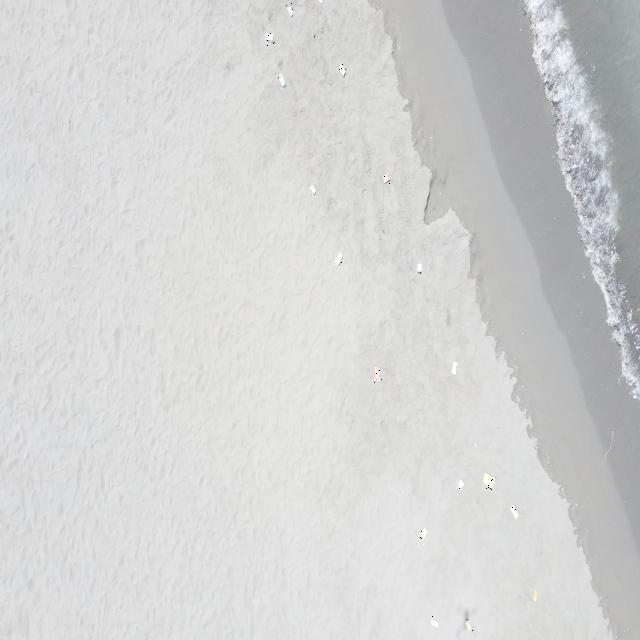Garbage: (604, 431, 612, 459), (484, 472, 493, 488), (372, 367, 380, 382), (276, 72, 284, 87), (264, 32, 273, 44), (337, 64, 346, 76), (284, 3, 292, 16), (464, 617, 472, 630), (510, 505, 517, 519), (335, 252, 342, 264), (451, 360, 456, 375), (310, 183, 316, 195), (431, 615, 437, 627), (383, 173, 390, 183), (420, 528, 426, 539), (456, 480, 463, 489), (415, 263, 422, 271), (532, 590, 537, 600), (318, 0, 322, 2), (319, 0, 322, 2)
